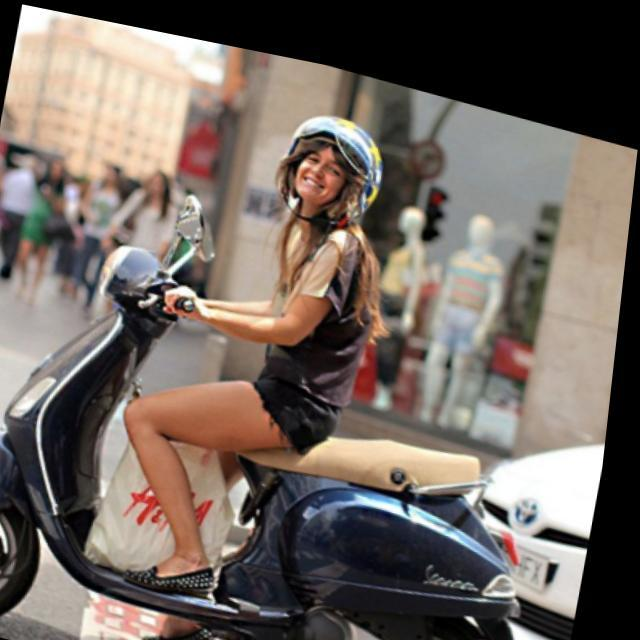Helmet: (274, 110, 382, 226)
